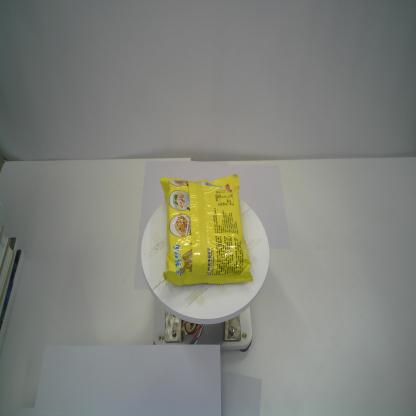Instant Noodles: (159, 173, 253, 286)
